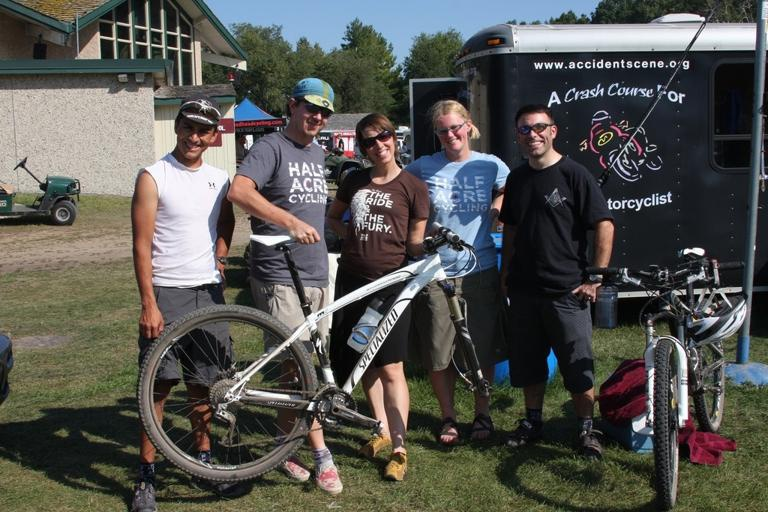non-vehicle: (133, 219, 491, 485), (573, 245, 747, 507)
